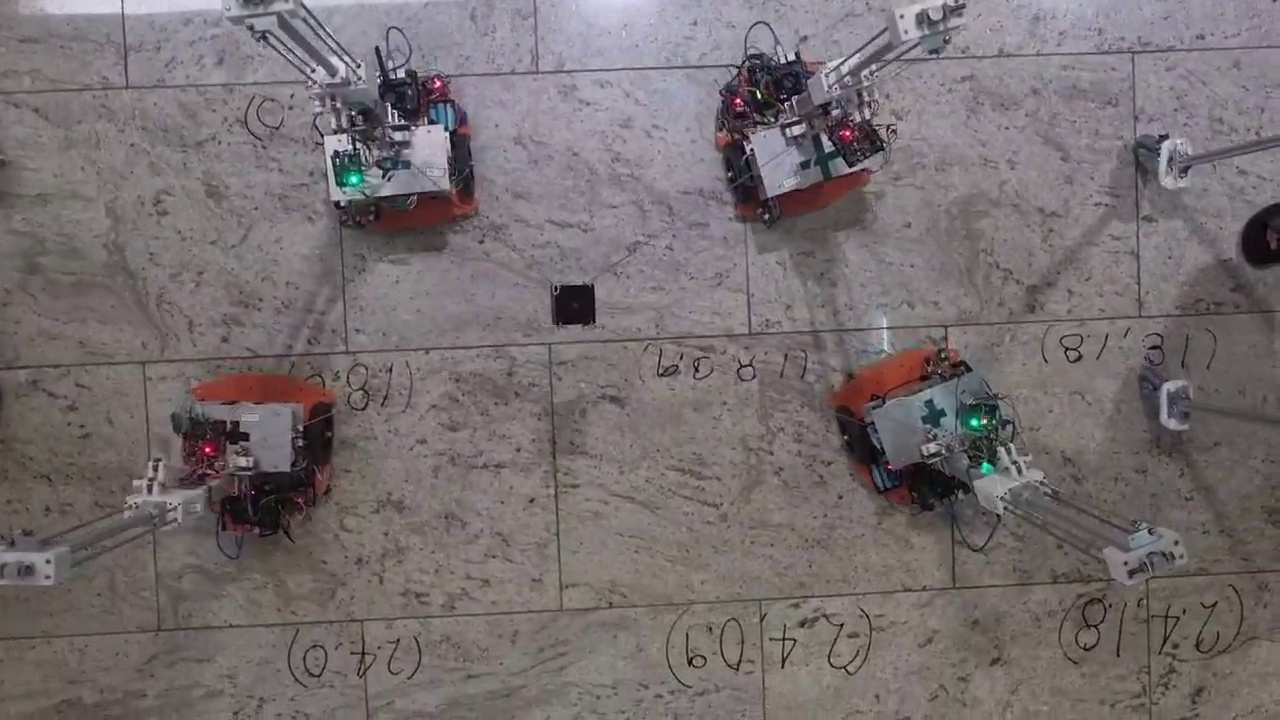e0: (551, 285, 597, 326)
r1: (836, 359, 995, 468)
r2: (722, 97, 857, 202)
r3: (334, 137, 475, 202)
r4: (193, 402, 334, 467)
y_+_axis_vector: (549, 326, 948, 344)
y_-_axis_vector: (145, 343, 548, 365)
